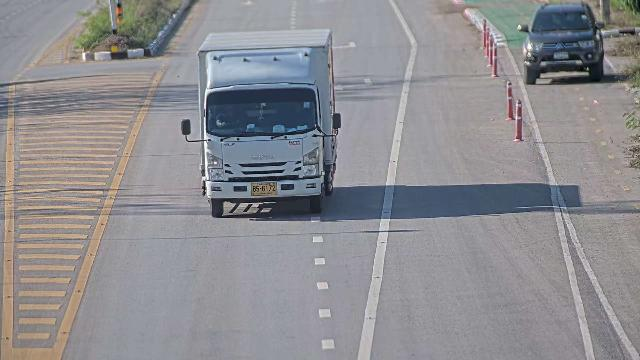pickup-truck: (517, 1, 606, 85)
truck: (192, 26, 340, 219)
